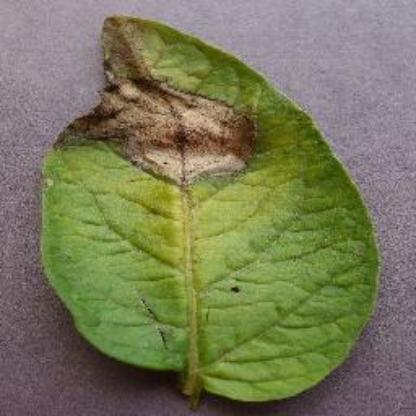Late-Blight: (29, 12, 389, 408)
